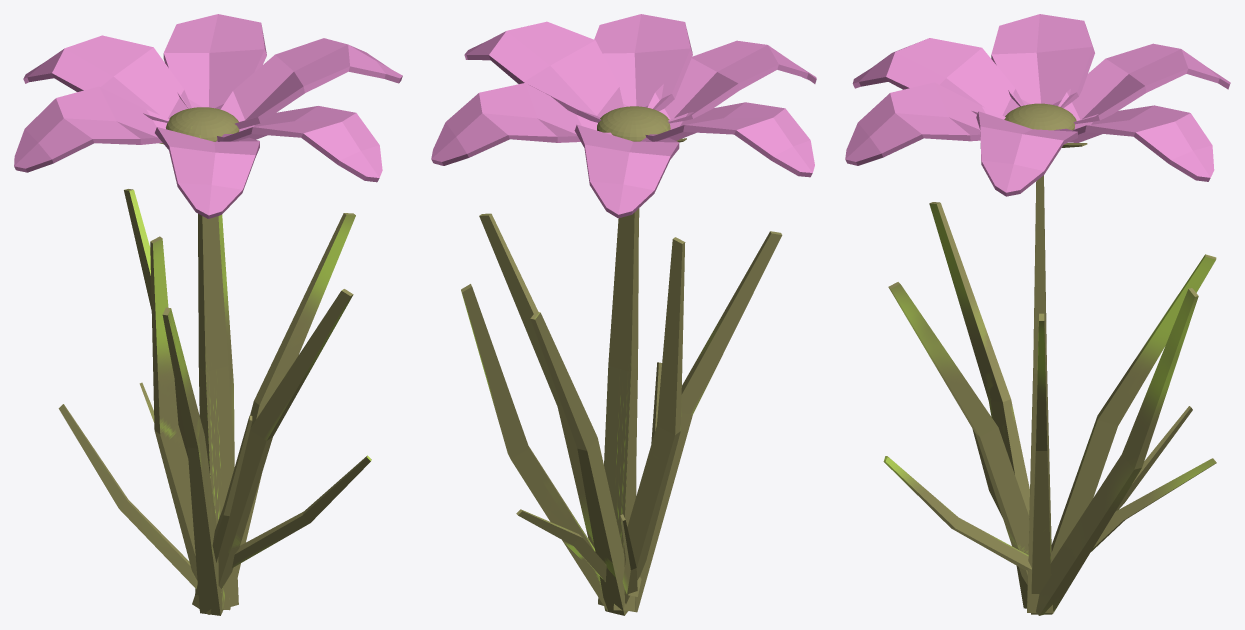
File: Flower.fbx
3 views of the same model, side by side, from view 1: azimuth 30°, elevation 25°; view 2: azimuth 150°, elevation 25°; view 3: azimuth 270°, elevation 25° (orthographic).
Visible parts, largest first — view 1: Grass Tuft 2.001, Petal.002, Petal, Petal.001, Petal.003, Petal.005, Petal.004; view 2: Grass Tuft 2.001, Petal.003, Petal.001, Petal.004, Petal, Petal.005, Petal.002; view 3: Grass Tuft 2.001, Petal.002, Petal.004, Petal.005, Petal, Petal.001, Petal.003.
Part boxes in pixels (x1,y1,x2,y2): Grass Tuft 2.001: [58, 107, 371, 615]; Petal.002: [14, 86, 169, 172]; Petal: [23, 35, 191, 122]; Petal.001: [163, 14, 266, 109]; Petal.003: [220, 38, 402, 129]; Petal.005: [155, 127, 259, 218]; Petal.004: [217, 106, 382, 182]; Grass Tuft 2.001: [461, 106, 782, 615]; Petal.003: [464, 21, 623, 122]; Petal.001: [431, 83, 612, 165]; Petal.004: [594, 14, 692, 111]; Petal: [574, 124, 679, 218]; Petal.005: [647, 40, 816, 123]; Petal.002: [645, 102, 814, 177]; Grass Tuft 2.001: [883, 103, 1216, 615]; Petal.002: [991, 14, 1094, 108]; Petal.004: [845, 82, 1005, 165]; Petal.005: [852, 38, 1024, 116]; Petal: [1058, 43, 1230, 124]; Petal.001: [1068, 105, 1214, 181]; Petal.003: [976, 111, 1077, 196].
Bounding box in the file's own units: 76.91 × 108 × 70.77.
2 materials, 1 textured.
